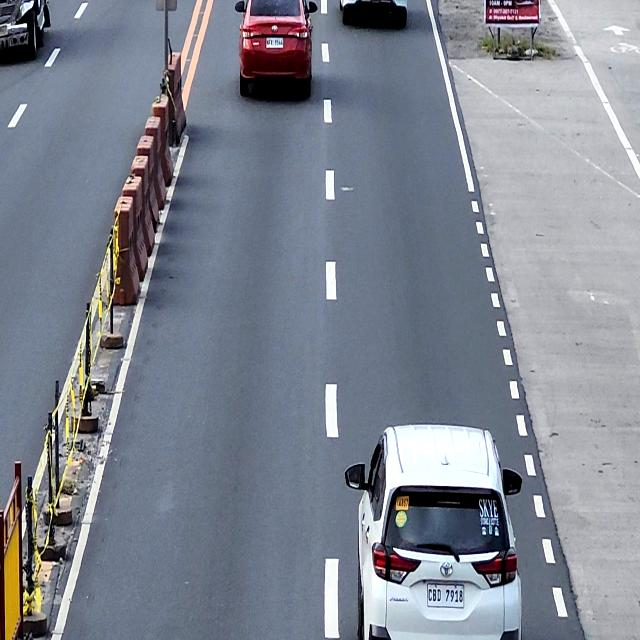Car: (344, 422, 524, 640), (234, 0, 317, 99)
License-Plate: (427, 583, 465, 608), (265, 36, 285, 49)
